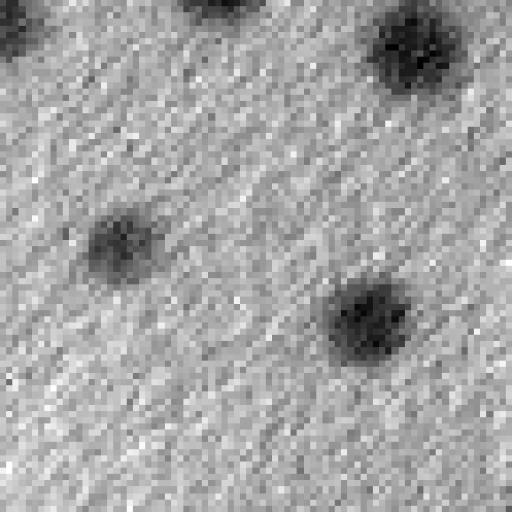Nanoparticles: (358, 2, 474, 100), (315, 280, 423, 374), (72, 200, 179, 291), (177, 0, 269, 40), (0, 0, 59, 61)
